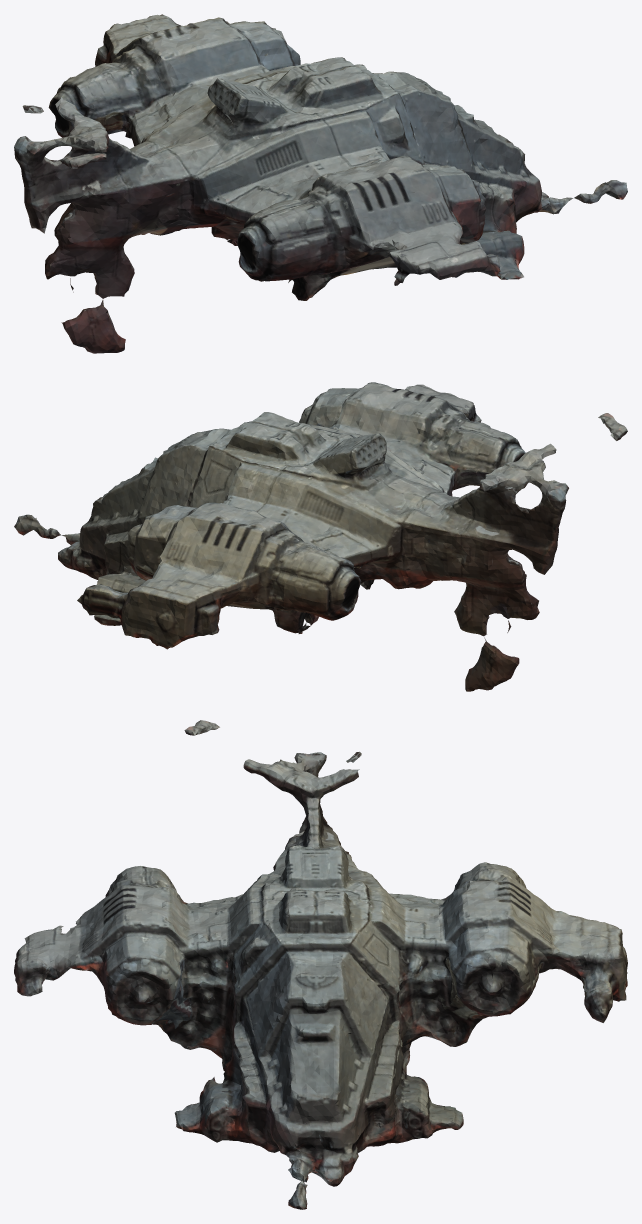
The model's file is warhammer2.glb.
The picture shows the model from 3 angles, top to bottom: view 1: azimuth 30°, elevation 25°; view 2: azimuth 150°, elevation 25°; view 3: azimuth 270°, elevation 25°; orthographic projection. The views are drawn at different scales.
Parts seen in each view (by area): view 1: warhammer2_small.001; view 2: warhammer2_small.001; view 3: warhammer2_small.001.
Boxes of the visible parts, left/top/right/bottom form: warhammer2_small.001: left=14, top=14, right=627, bottom=353; warhammer2_small.001: left=14, top=382, right=627, bottom=691; warhammer2_small.001: left=14, top=720, right=627, bottom=1209.
Bounding box in the file's own units: 0.5223 × 0.2188 × 0.4773.
Materials: 1 (1 with a texture image).
